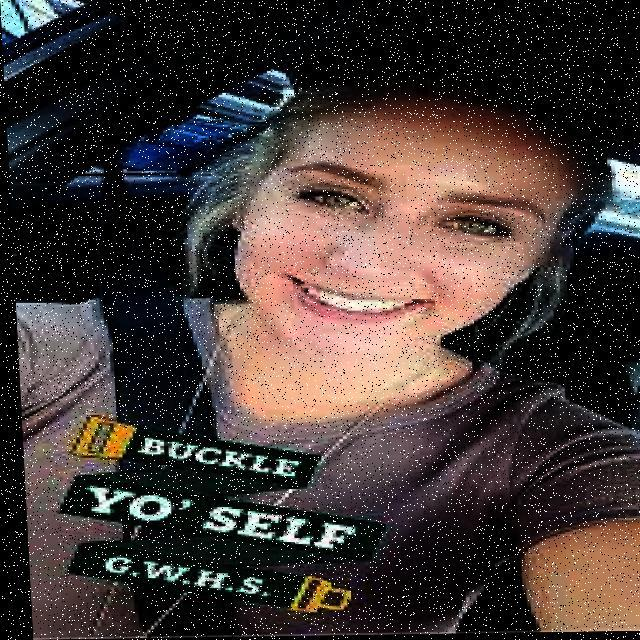seatbelt: (11, 275, 404, 640)
